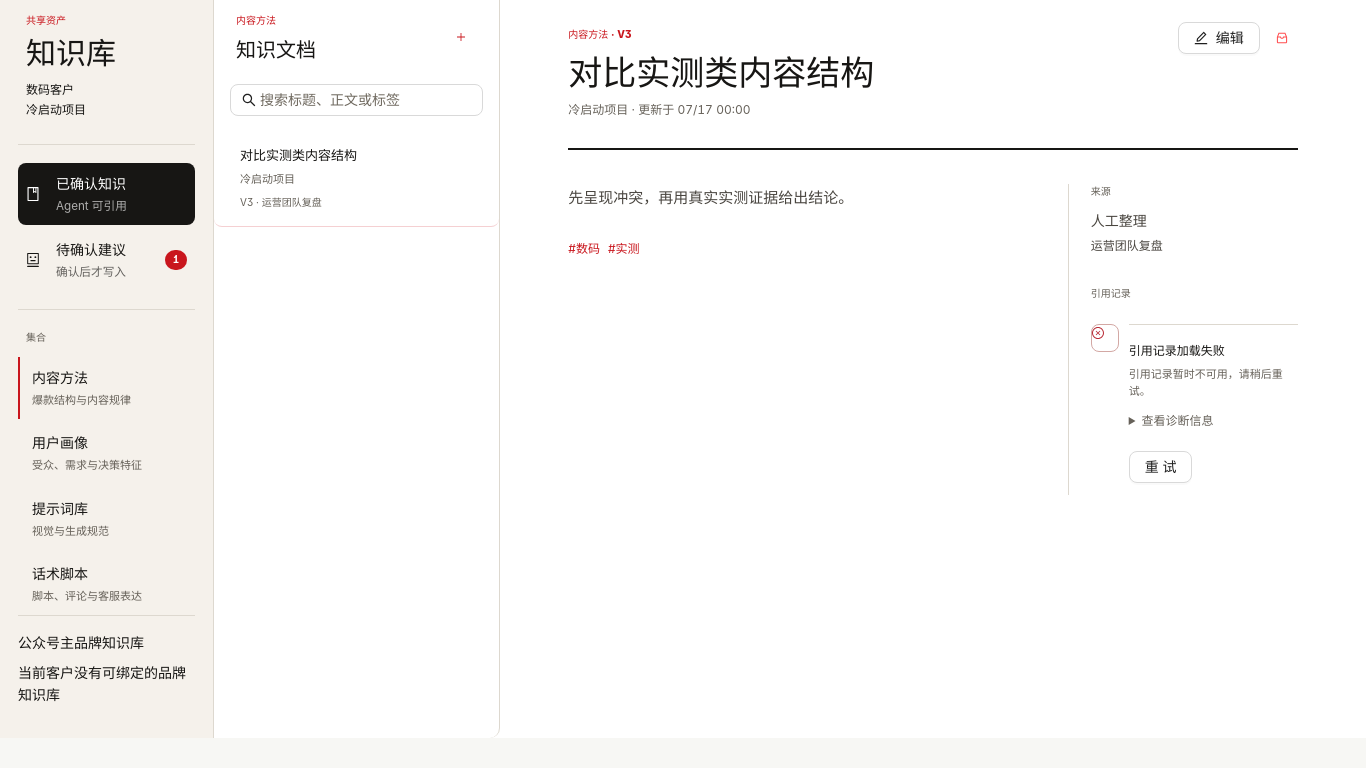
it: Knowledge › does not present a failed citation request as no citations
The image size is (1366, 768).
expect the heading "对比实测类内容结构" is shown: met, box [568, 53, 874, 93]
expect the message "引用记录加载失败 引用记录暂时不可用，请稍后重试。 查看诊断信息 重 试" is shown: met, box [1091, 312, 1298, 495]
Click the button "重 试" at [1161, 467], box [1129, 451, 1192, 483]
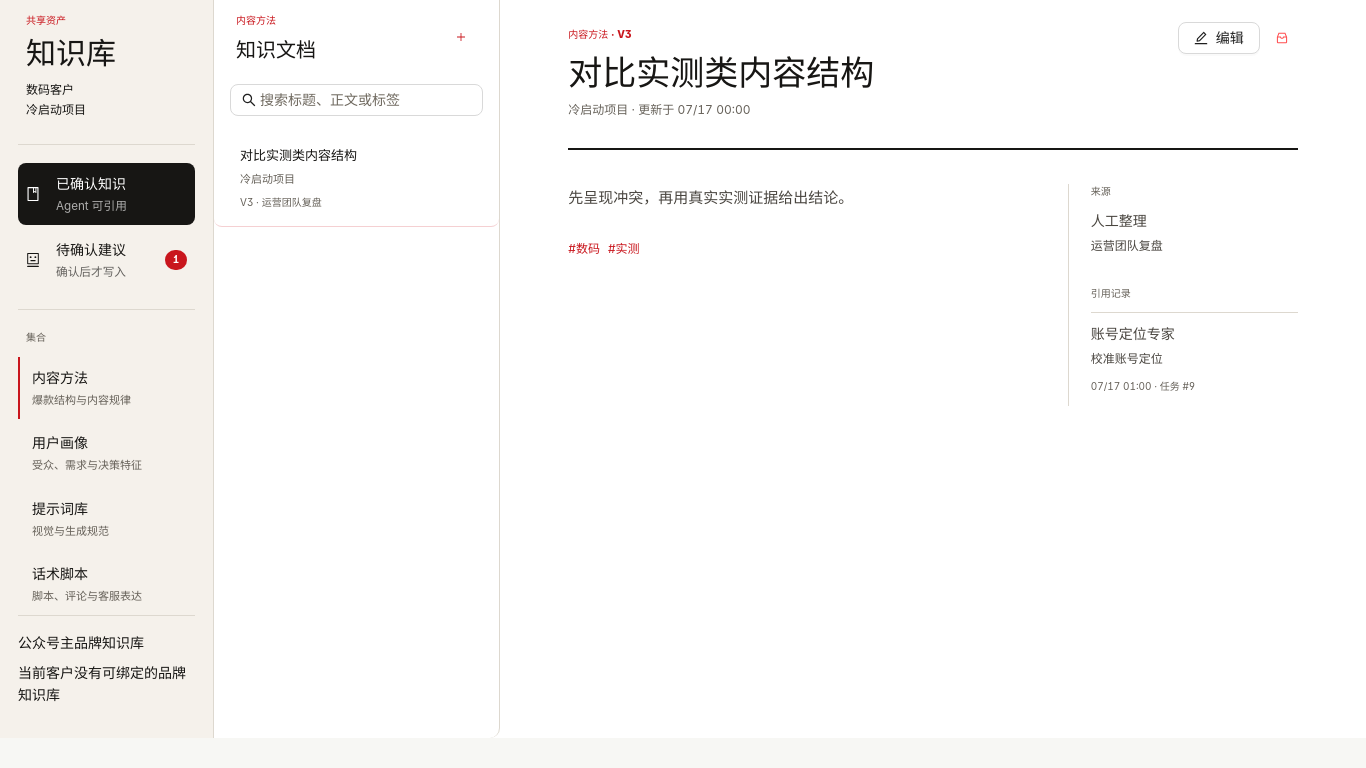
expect the text "校准账号定位" is shown: met, box [1091, 351, 1163, 366]
